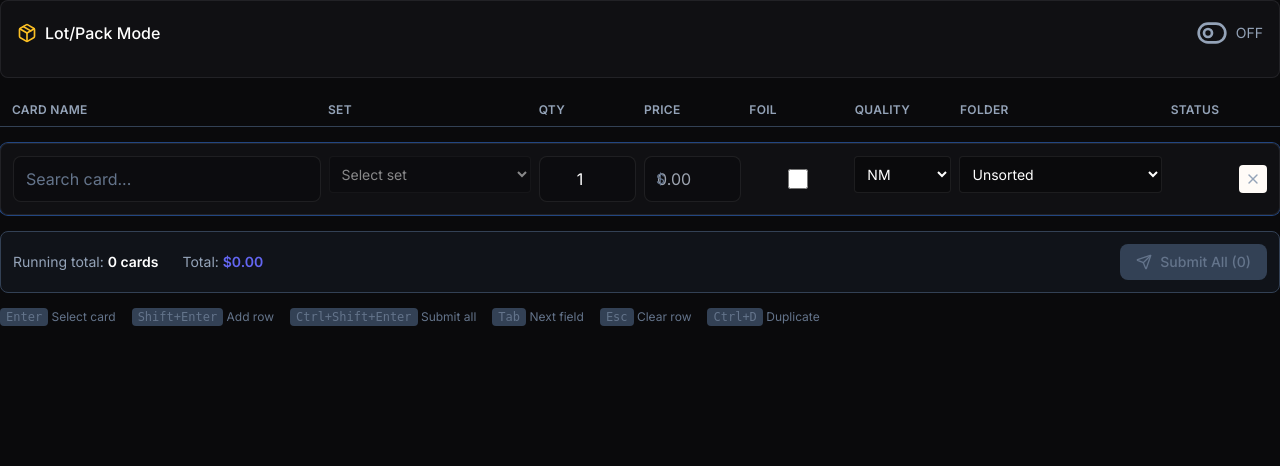
Test case: RapidEntryTable Component › Lot Mode › shows lot name and total cost inputs when lot mode is enabled
Note: Toggle lot mode on
What coordinates should you click on to do the following:
click the button "OFF"
I would click on:
 (1229, 33)
Its box is [1196,17,1263,49].
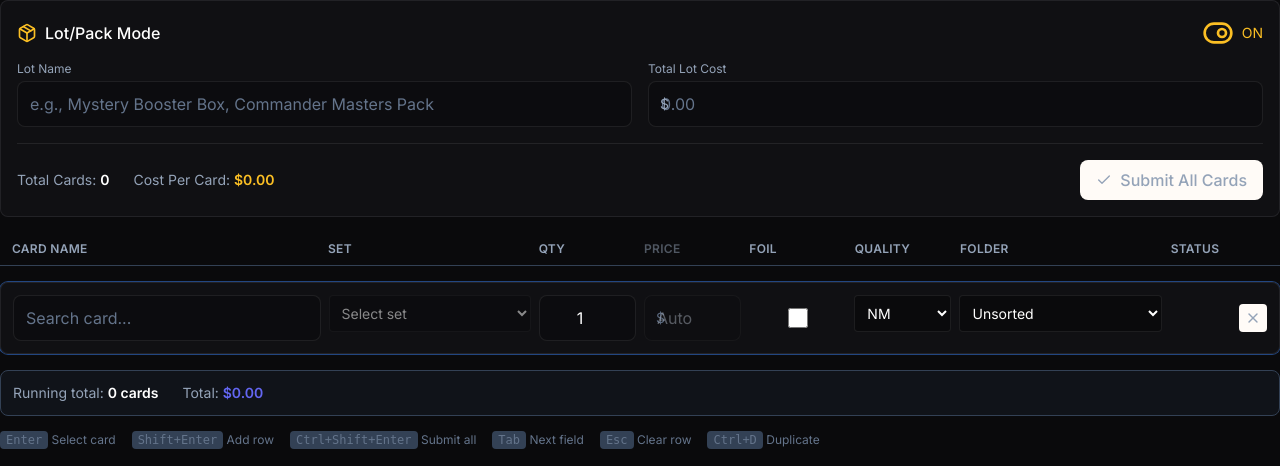
expect the field with placeholder "e.g., Mystery Booster Box, Commander Masters Pack" is shown: met, box [17,81,632,127]
expect the text "Total Lot Cost" is shown: met, box [648,61,726,76]
